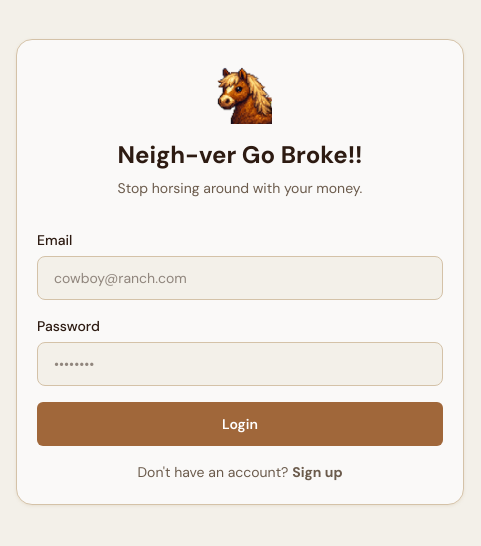
Test case: LoginPage › shows validation error for short password
Type "user@test.com" into the field with placeholder "cowboy@ranch.com" at [240, 278], box [37,256,443,300]
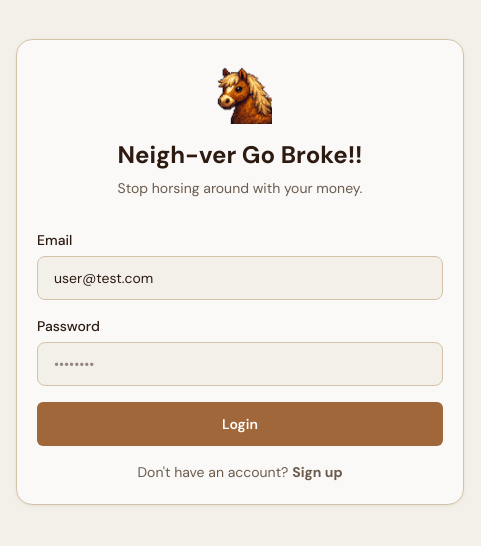
Type "abc" into the password field with placeholder "••••••••" at [240, 364], box [37,342,443,386]
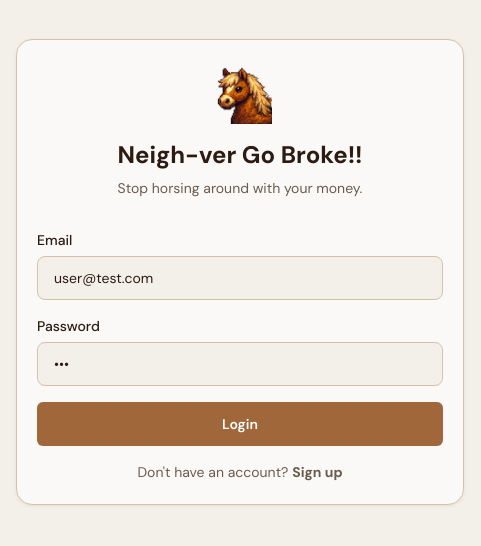
Click the button "Login" at [240, 424], box [37,402,443,446]
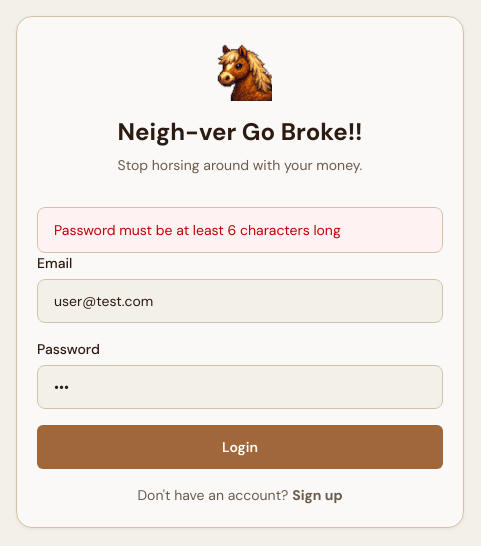
Check: the text "Password must be at least 6 characters long" is shown, box [37,207,443,253]
